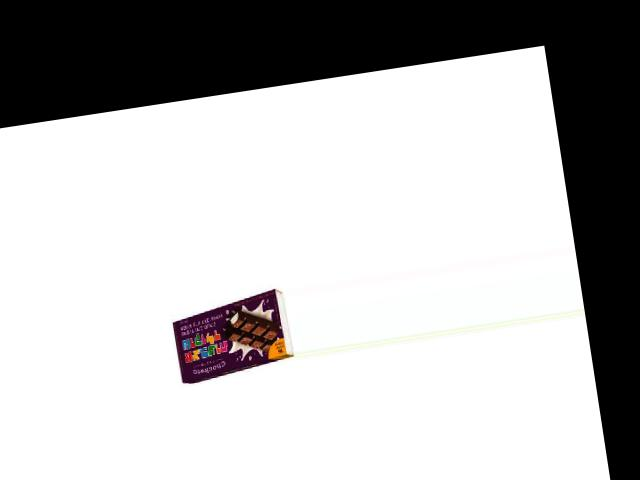chocolate: (162, 293, 297, 386)
